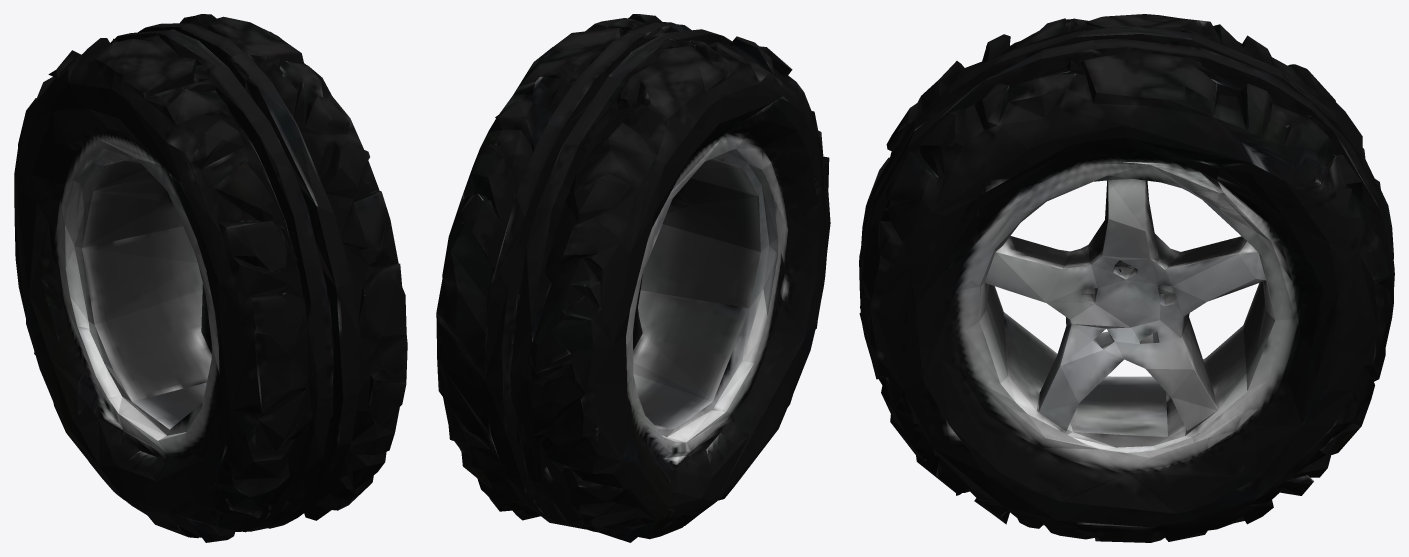
File: wheel.glb
The picture shows the model from 3 angles, left to right: view 1: azimuth 30°, elevation 25°; view 2: azimuth 150°, elevation 25°; view 3: azimuth 270°, elevation 25°; orthographic projection. The views are drawn at different scales.
Parts seen in each view (by area): view 1: geometry_0; view 2: geometry_0; view 3: geometry_0.
Boxes of the visible parts, <box> form: geometry_0: <box>14,14,407,542</box>; geometry_0: <box>436,14,830,542</box>; geometry_0: <box>859,14,1394,542</box>.
Bounding box in the file's own units: 0.4 × 0.9975 × 0.9982.
1 material, 1 textured.
